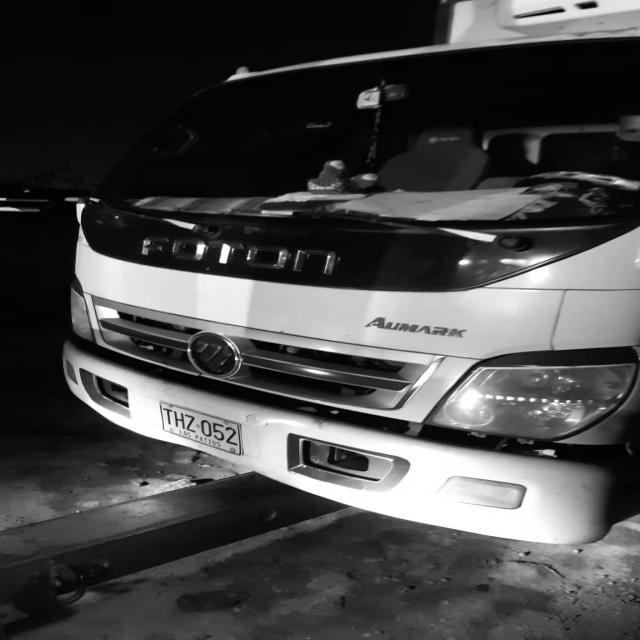plate: (155, 396, 250, 459)
